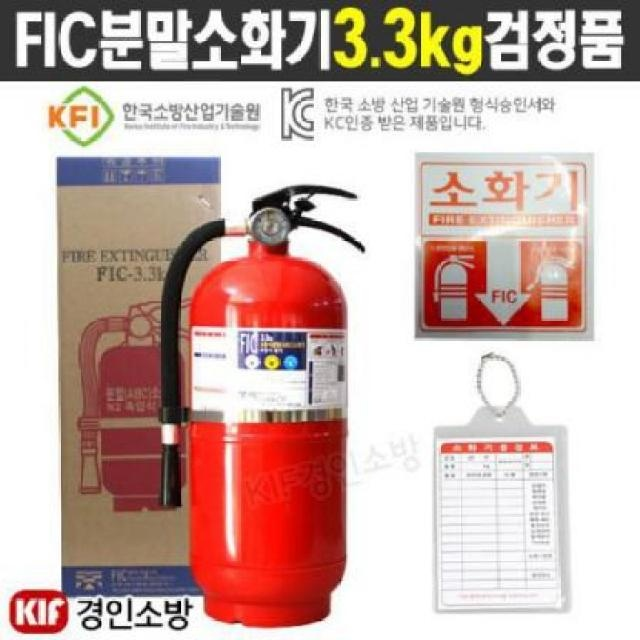fire extinguisher: (158, 184, 365, 630)
